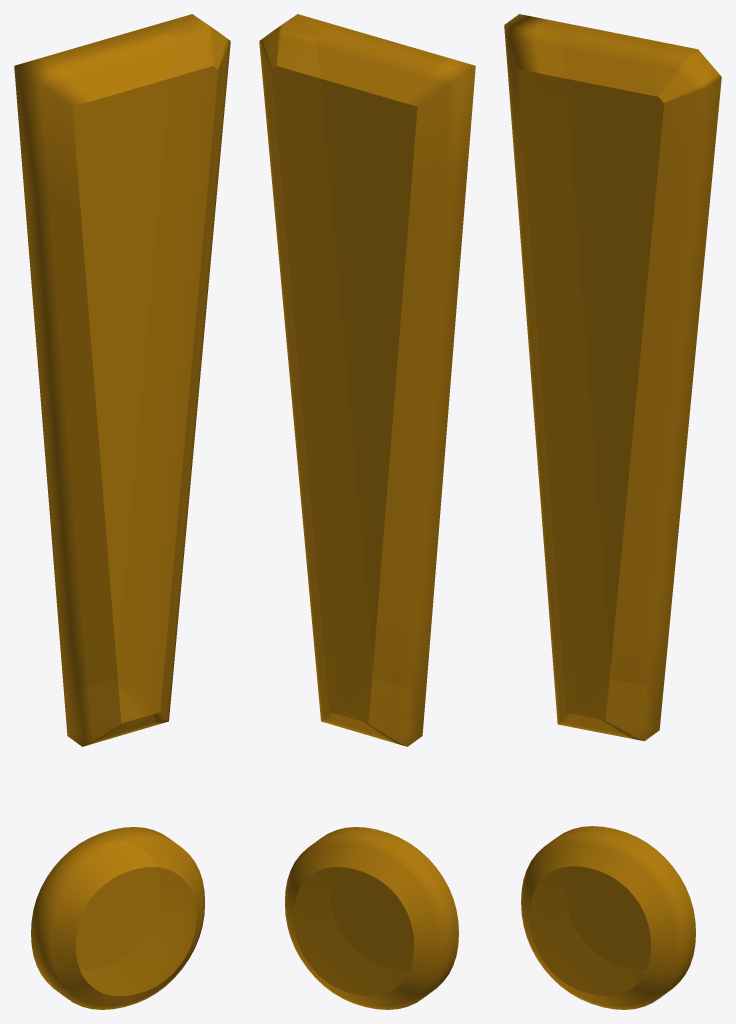
3 renders of one model, left to right at view 1: azimuth 30°, elevation 25°; view 2: azimuth 150°, elevation 25°; view 3: azimuth 330°, elevation 25°, orthographic.
Visible parts, largest first — view 1: polySurface5, polySurface6; view 2: polySurface5, polySurface6; view 3: polySurface5, polySurface6.
Boxes of the visible parts, left/top/right/bottom form: polySurface5: left=14, top=14, right=230, bottom=746; polySurface6: left=31, top=827, right=204, bottom=1009; polySurface5: left=259, top=14, right=475, bottom=746; polySurface6: left=285, top=827, right=458, bottom=1009; polySurface5: left=504, top=14, right=721, bottom=741; polySurface6: left=521, top=826, right=695, bottom=1009.
Bounding box in the file's own units: 0.1549 × 0.7073 × 0.06.
